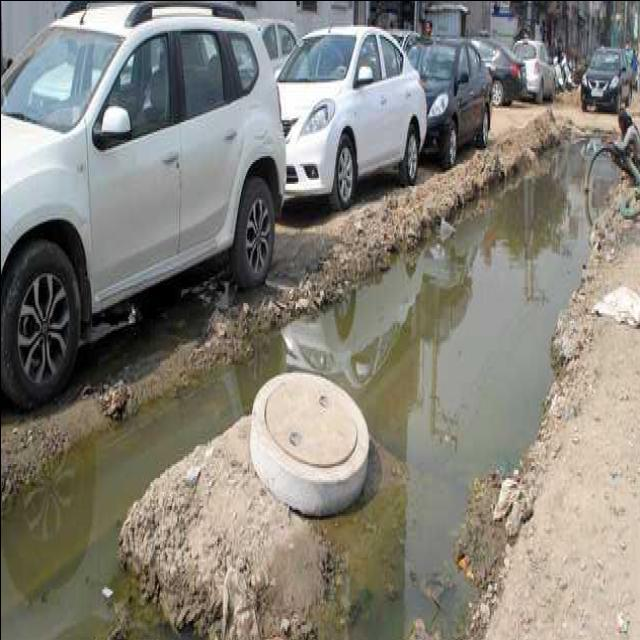Breeding Place: (0, 119, 640, 640)
